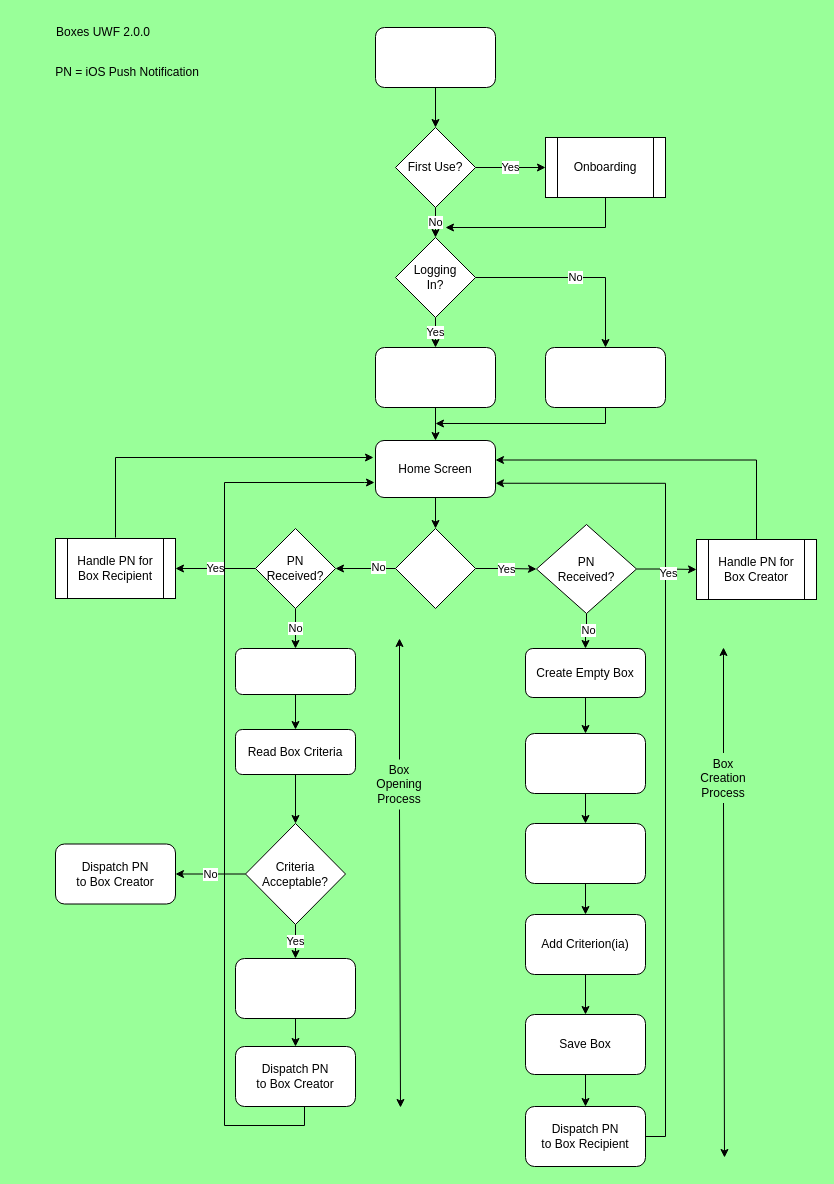
Image size: 834x1184. Some labels were removed from this diagram. Here are the shapes that lost their labels. From the top down, the centre of each, then its label:
At point 435,57: "Load Launch Screen".
At point 435,377: "Log In".
At point 605,377: "Sign Up".
At point 435,568: "Box Creator?".
At point 295,671: "Load Box".
At point 585,763: "Assemble Recipients Info".
At point 585,853: "Add Reward(s)".
At point 295,988: "Record Criteria Satisfied".
